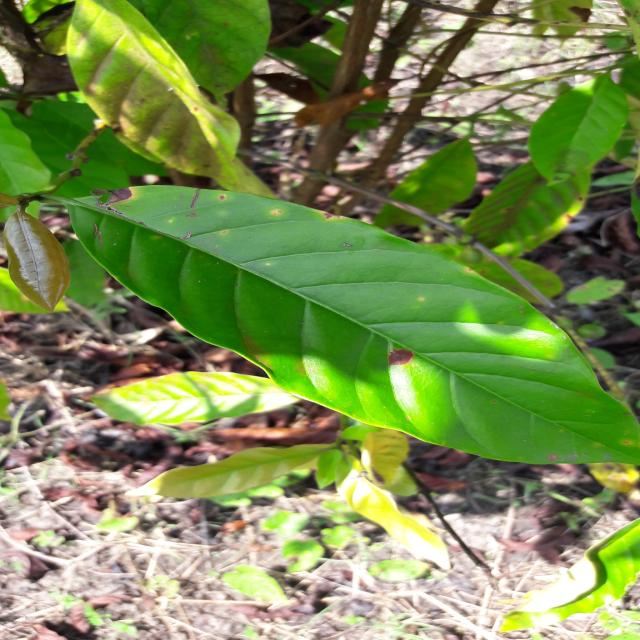Plaga-AranaRoja: (61, 186, 640, 472)
